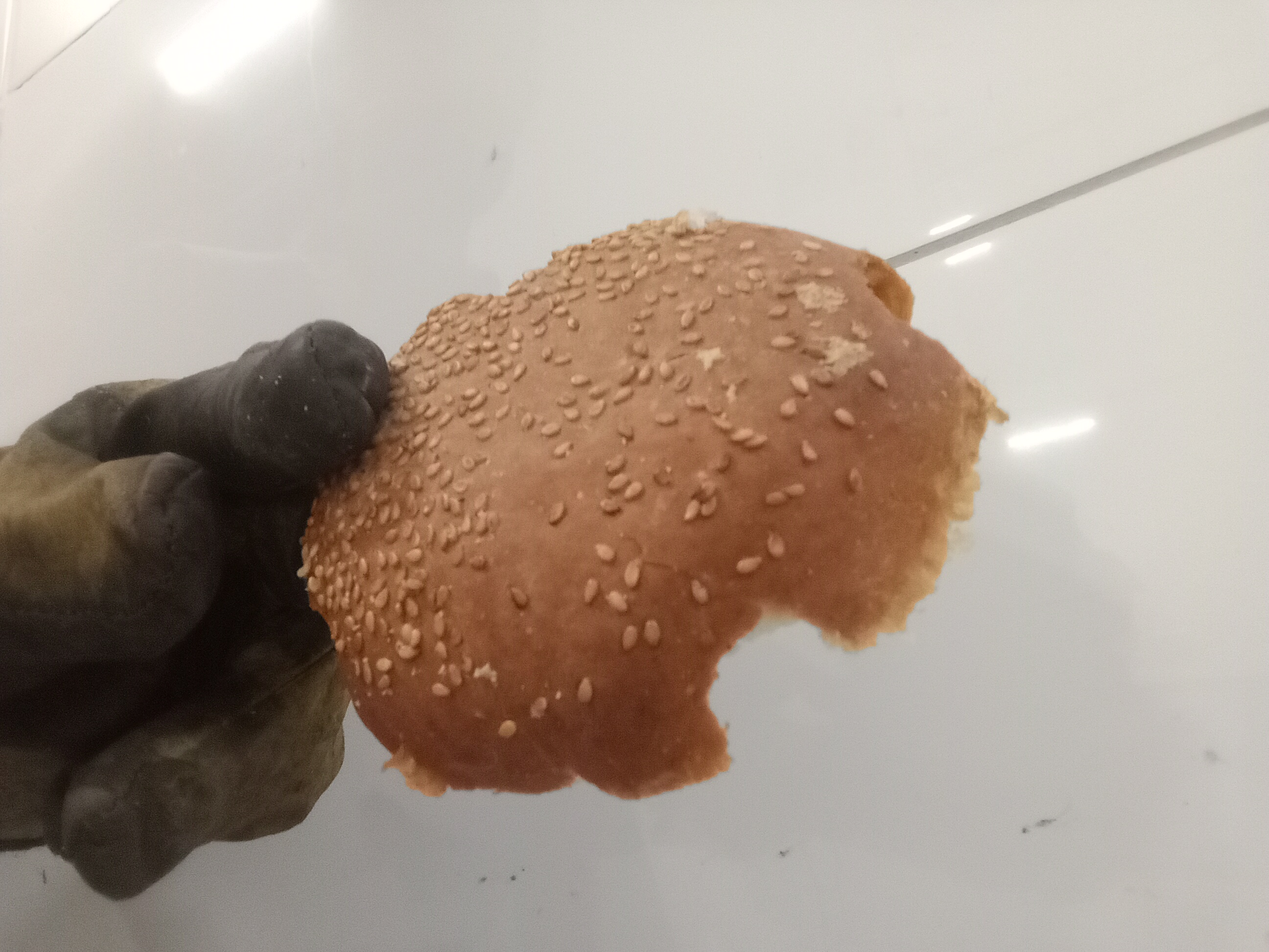Organico: (299, 212, 994, 799)
